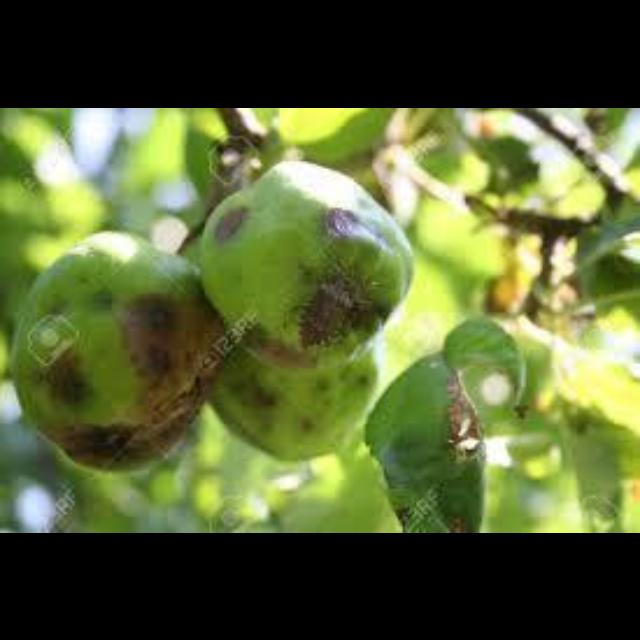apple: (9, 230, 221, 468), (195, 161, 412, 365)
rotten: (37, 290, 223, 470), (297, 267, 376, 347), (42, 354, 97, 412), (323, 207, 386, 244), (256, 335, 318, 367), (213, 203, 247, 244)
